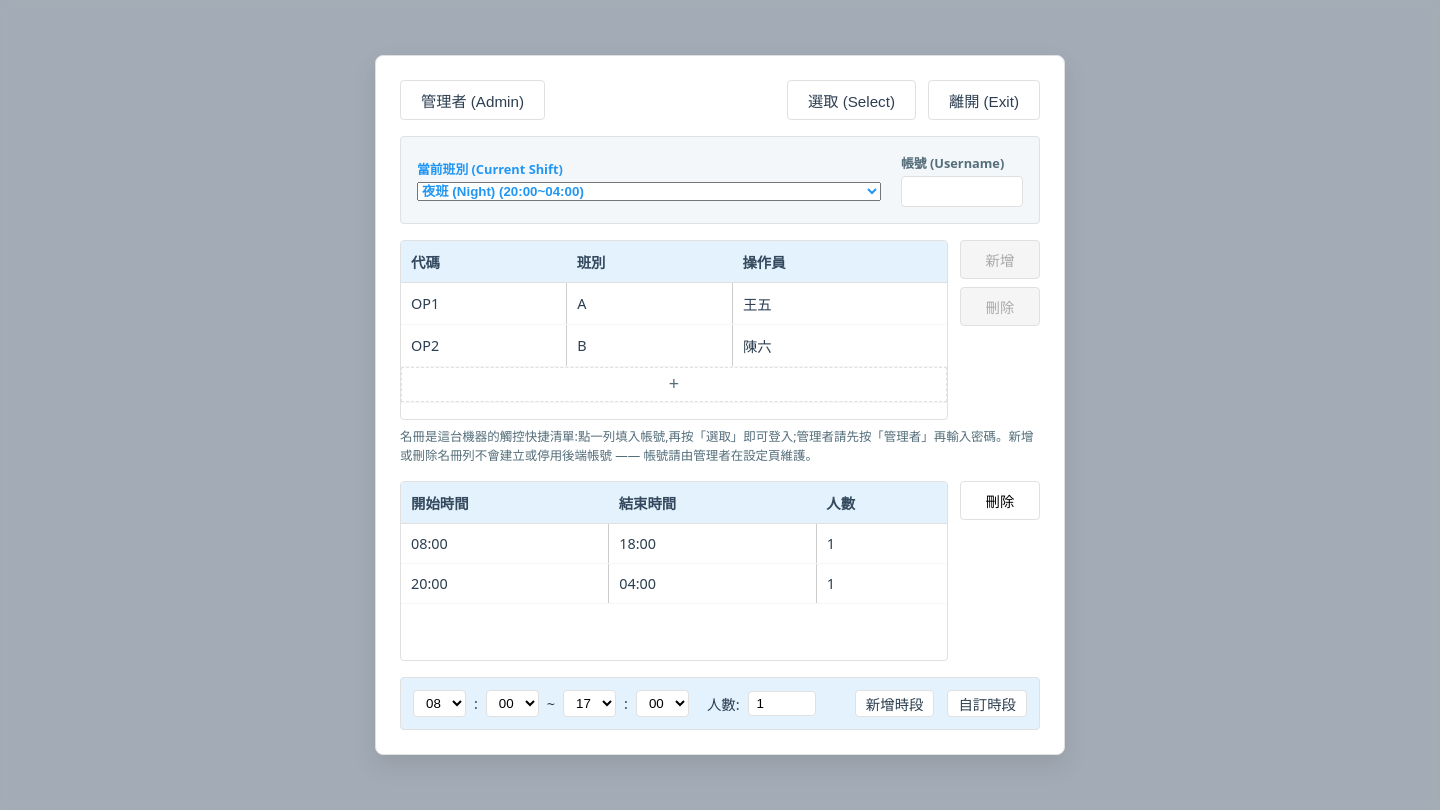
Scenario: S13 點名冊列不得靜默覆寫已輸入的帳號 › 使用者自己打了帳號 → 點列不覆寫,並明說有保留
Expected: the text "帳號 (Username)" is shown, x1=901 y1=154 x2=1004 y2=172
Type "admin" into the field named "帳號 (Username)" at (962, 191), box x1=901 y1=176 x2=1023 y2=207
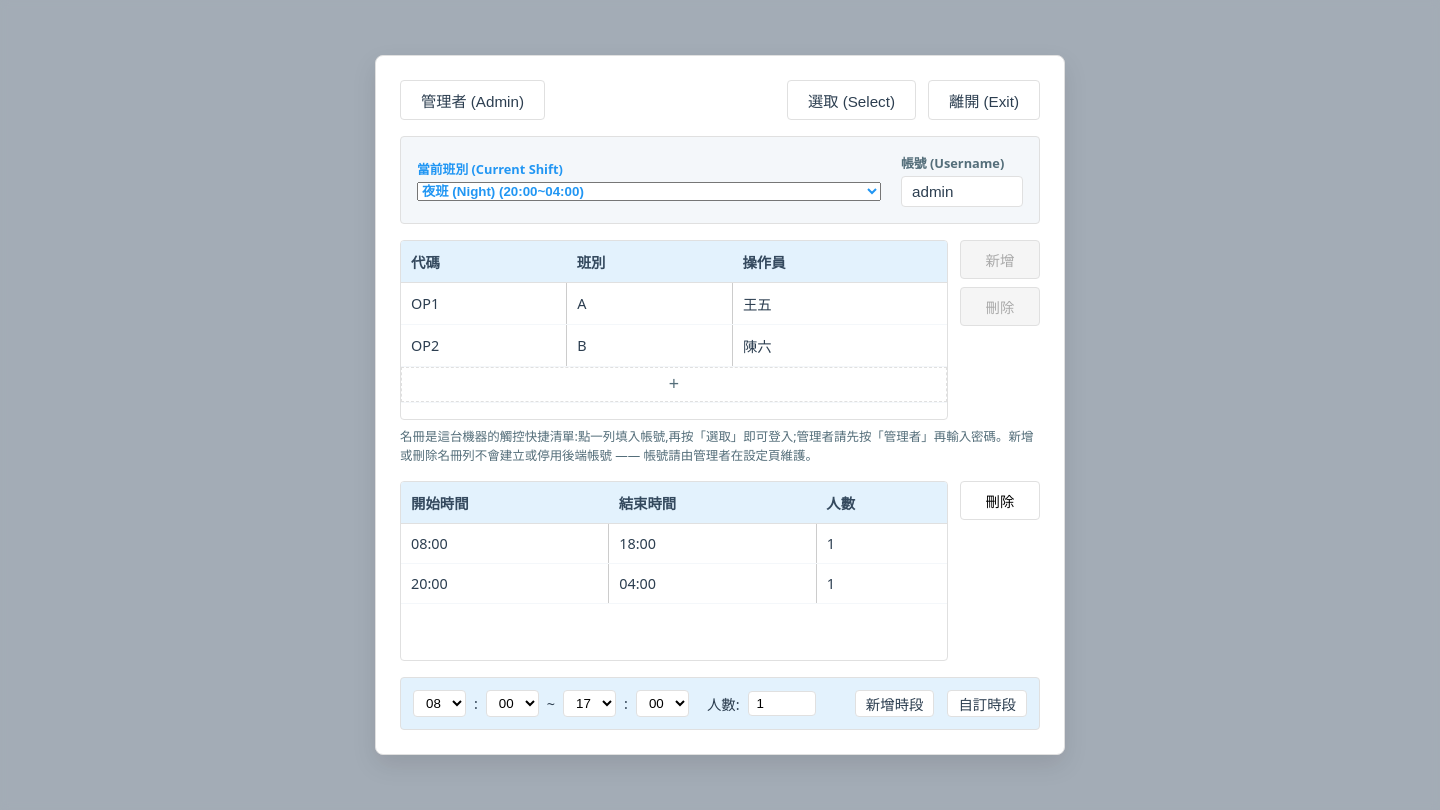
Click the text "王五" at (840, 303), box x1=732 y1=282 x2=947 y2=324
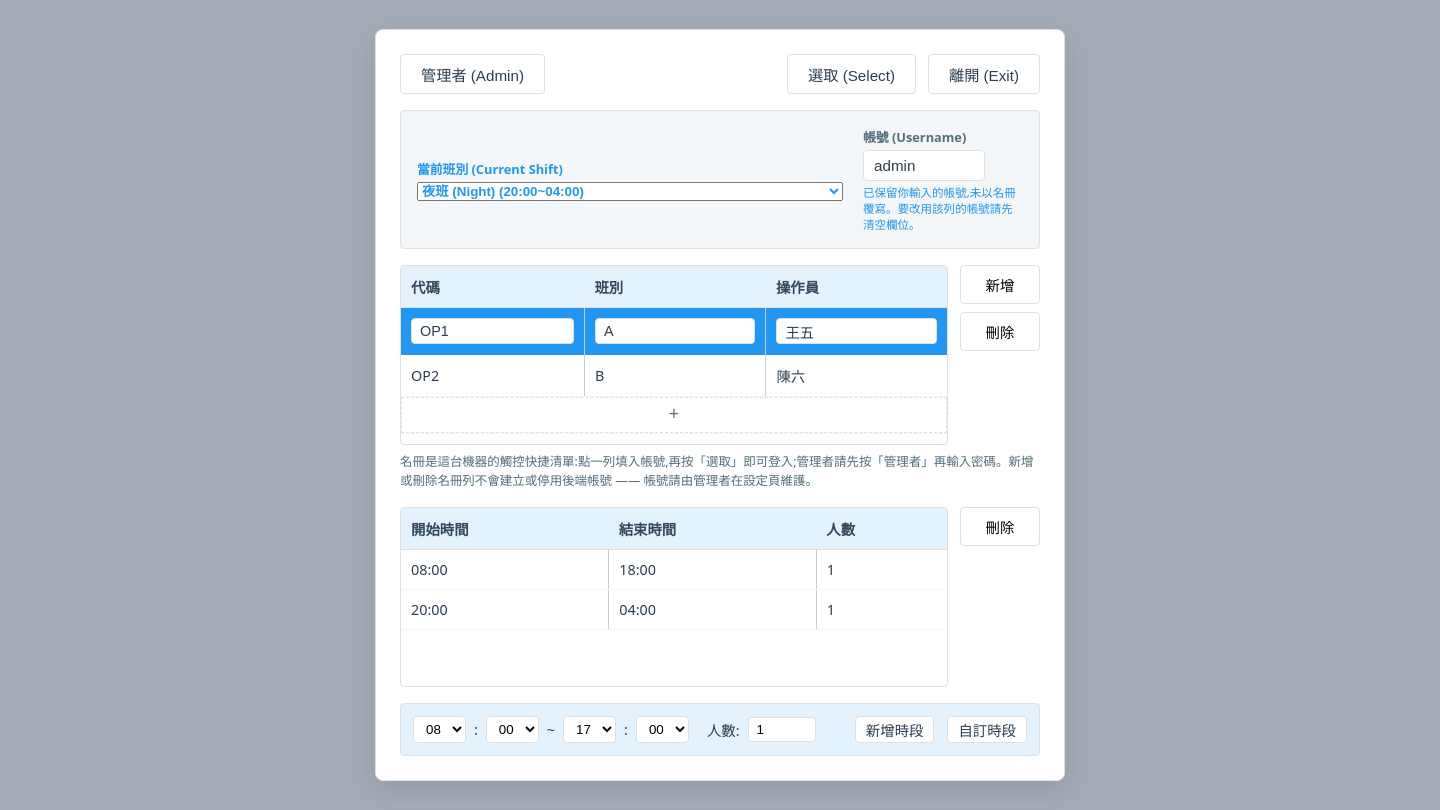
Now the text "已保留你輸入的帳號,未以名冊覆寫。要改用該列的帳號請先清空欄位。" is shown, box x1=863 y1=186 x2=1023 y2=232
